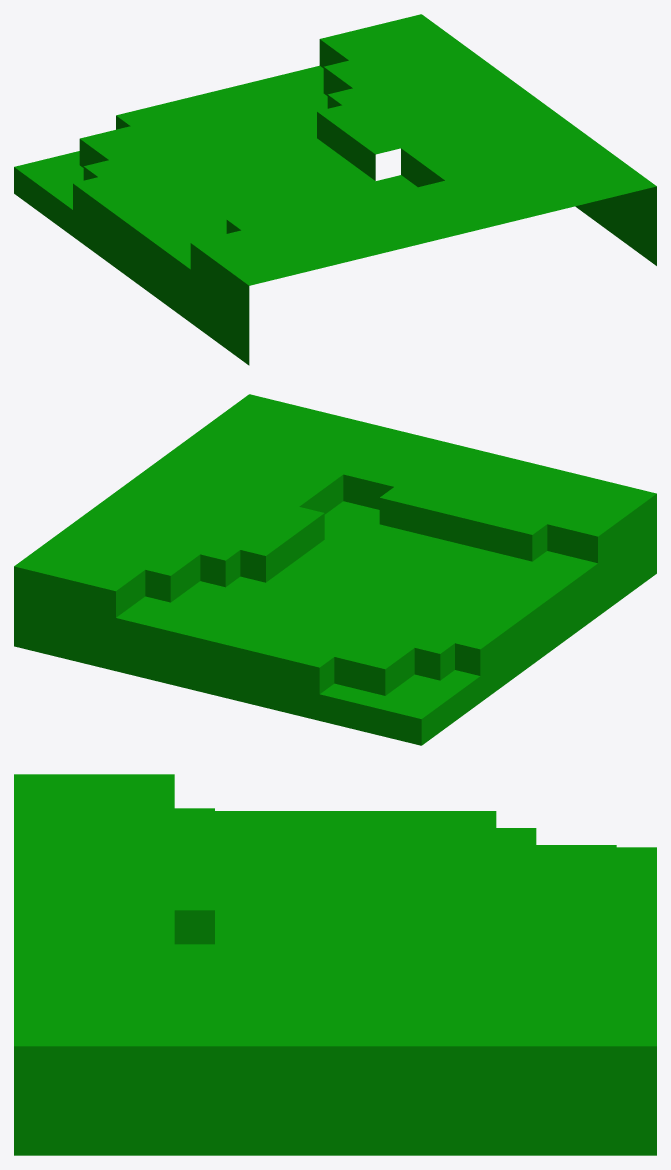
File: Corner19.fbx
The picture shows the model from 3 angles, top to bottom: view 1: azimuth 30°, elevation 25°; view 2: azimuth 150°, elevation 25°; view 3: azimuth 270°, elevation 25°; orthographic projection. The views are drawn at different scales.
Visible parts, largest first — view 1: Matrix; view 2: Matrix; view 3: Matrix.
Boxes of the visible parts, x1=… form: Matrix: x1=14, y1=14, x2=656, y2=365; Matrix: x1=14, y1=394, x2=656, y2=745; Matrix: x1=14, y1=774, x2=656, y2=1155.
Size of the model in its own units: 16 by 3 by 16.
Materials: 1 (1 with a texture image).
